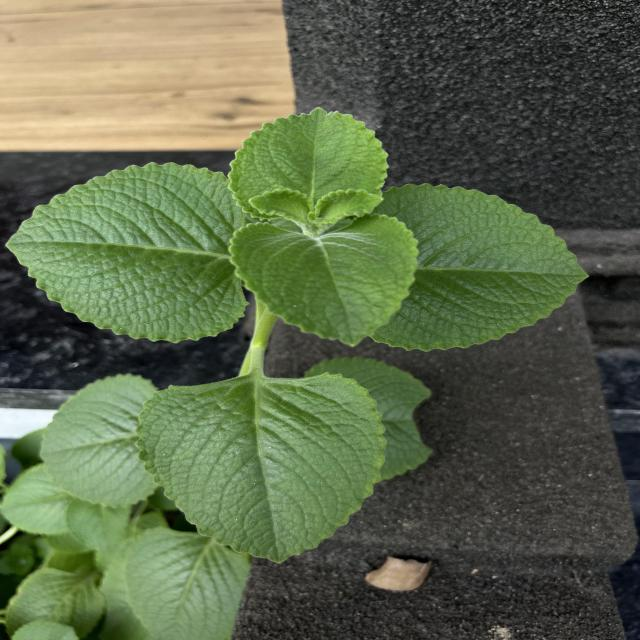Plectranthus barbatus: (134, 370, 388, 566), (5, 161, 248, 346), (370, 182, 590, 354), (228, 212, 422, 348), (226, 107, 391, 220), (38, 371, 168, 508), (122, 527, 248, 640)
